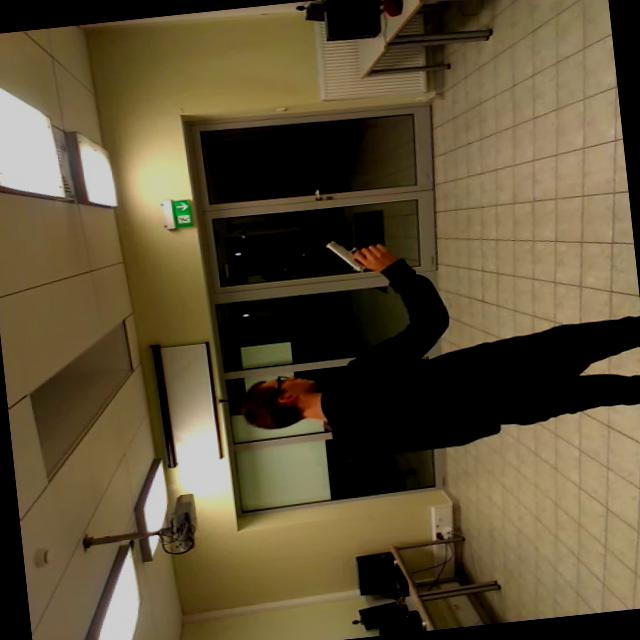handgun: (315, 226, 393, 277)
